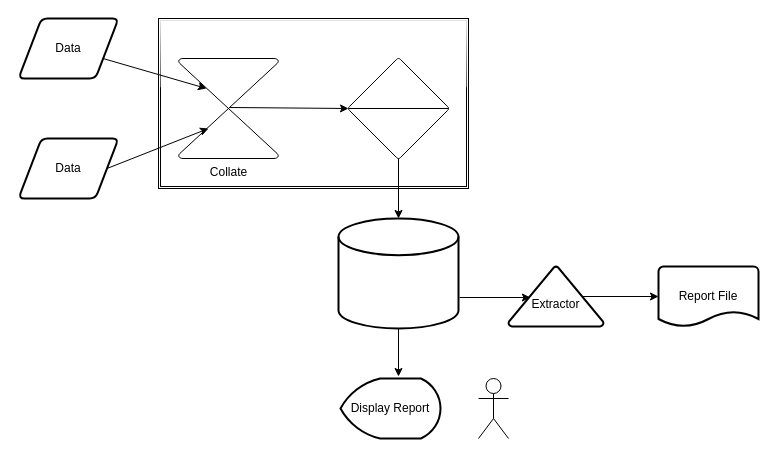
Image size: 776x476. Some labels were removed from this diagram. Each missing label, with the centre of its shape:
Data Store: point (398, 273)
Sort: point (398, 108)
User: point (493, 408)
